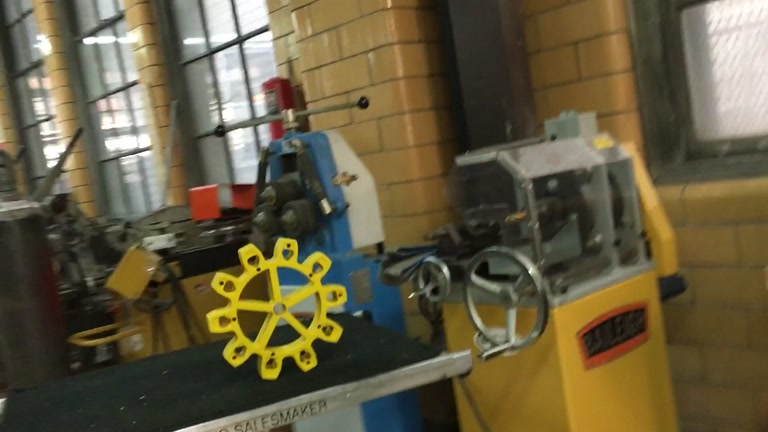gear: (204, 236, 348, 380)
